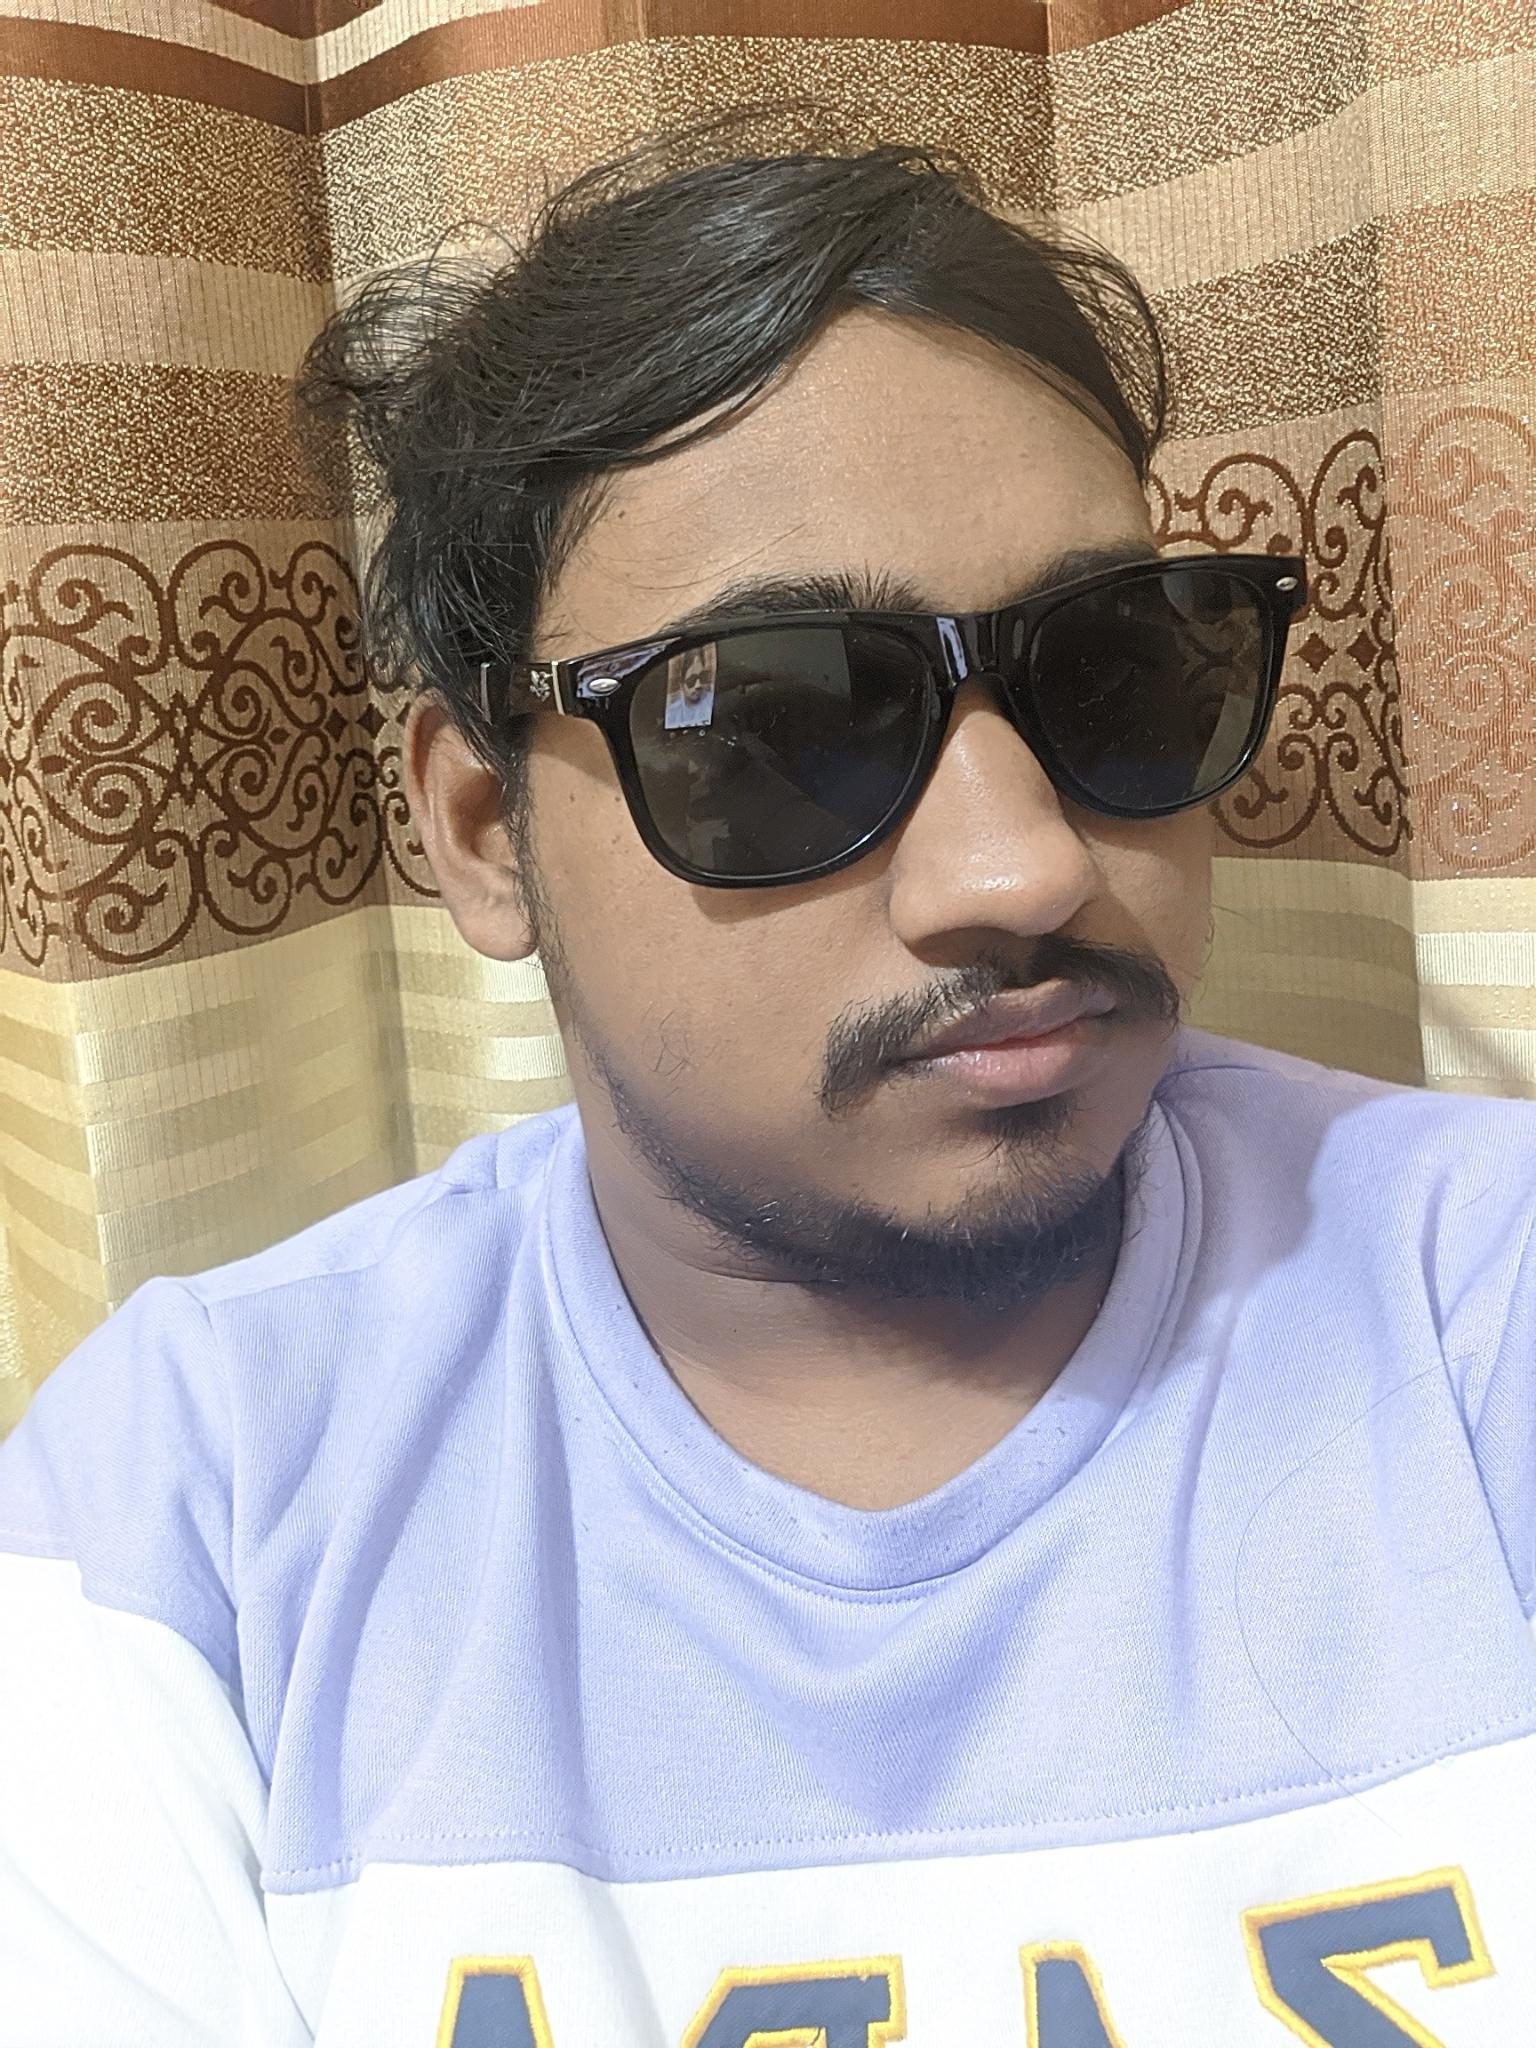Neutral: (516, 490, 1307, 1255)
